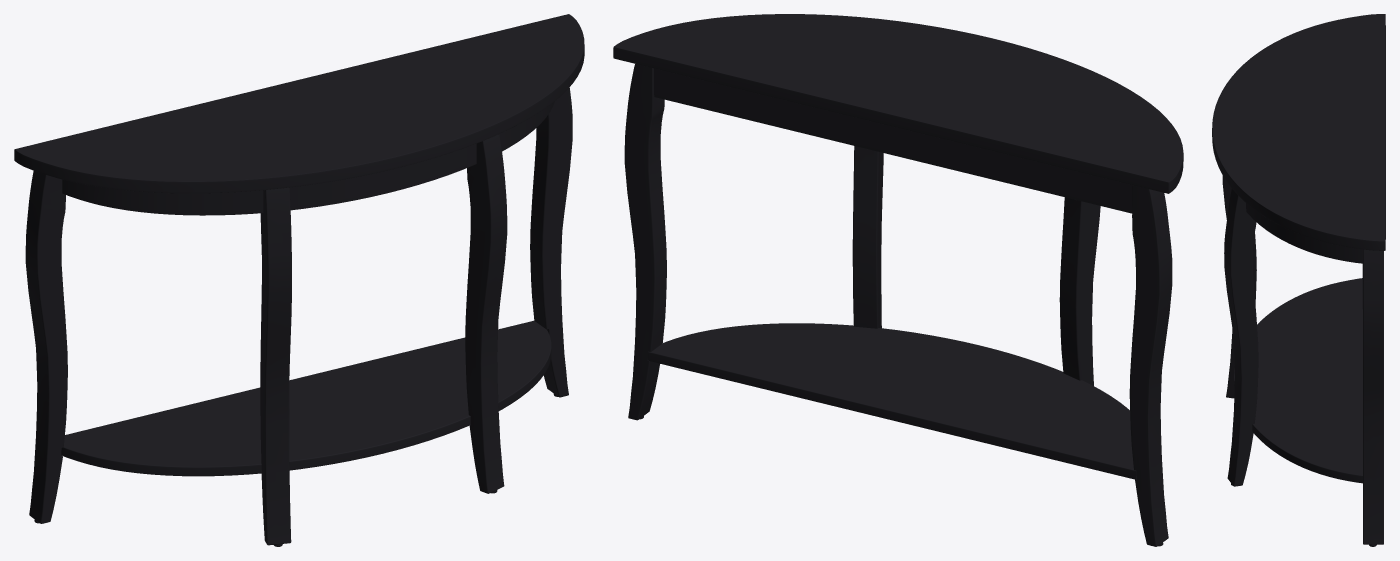
Rendered from abo-B07F3Y9BSC.glb.
3 renders of one model, left to right at view 1: azimuth 30°, elevation 25°; view 2: azimuth 150°, elevation 25°; view 3: azimuth 270°, elevation 25°, orthographic. The views are drawn at different scales.
Size of the model in its own units: 1.22 by 0.78 by 0.394.
1 material, 1 textured.
